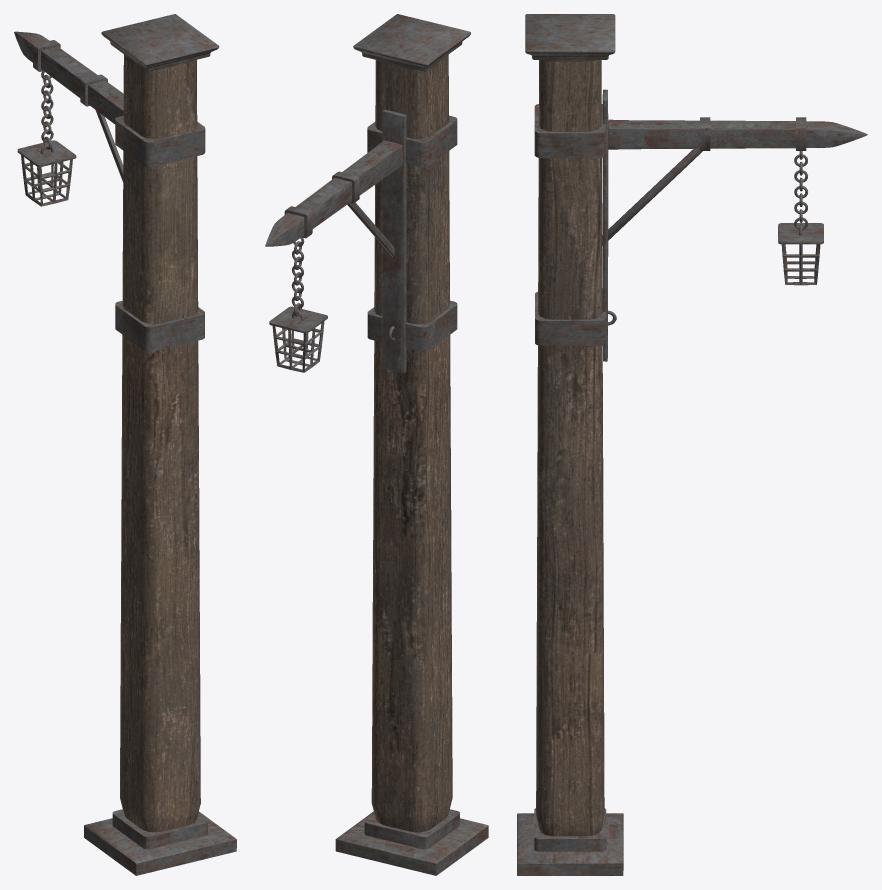
File: medieval_lamp_post.glb
The picture shows the model from 3 angles, left to right: view 1: azimuth 30°, elevation 25°; view 2: azimuth 150°, elevation 25°; view 3: azimuth 270°, elevation 25°; orthographic projection.
Visible parts, largest first — view 1: Lamppost; view 2: Lamppost; view 3: Lamppost.
Boxes of the visible parts, x1=… form: Lamppost: x1=14, y1=14, x2=236, y2=875; Lamppost: x1=265, y1=14, x2=488, y2=875; Lamppost: x1=517, y1=14, x2=867, y2=875.
Bounding box in the file's own units: 1.14 × 8.73 × 3.39.
Materials: 2 (2 with a texture image).
